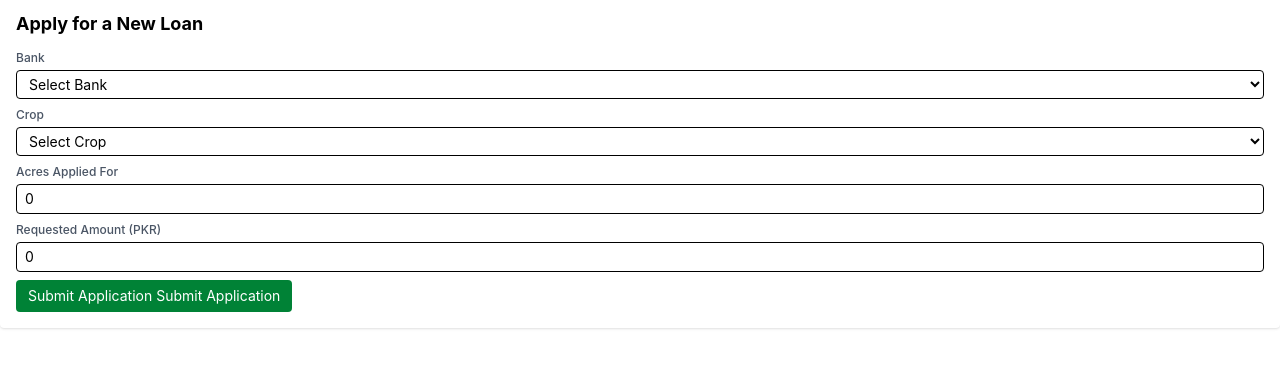
ApplyLoanForm.vue › FIXED: a generic per-field DRF validation error now surfaces instead of falling through to a useless generic message
This screenshot has width=1280, height=374.
Select "NRSP Bank" in the 1st dropdown at (640, 84), box [16,70,1264,99]
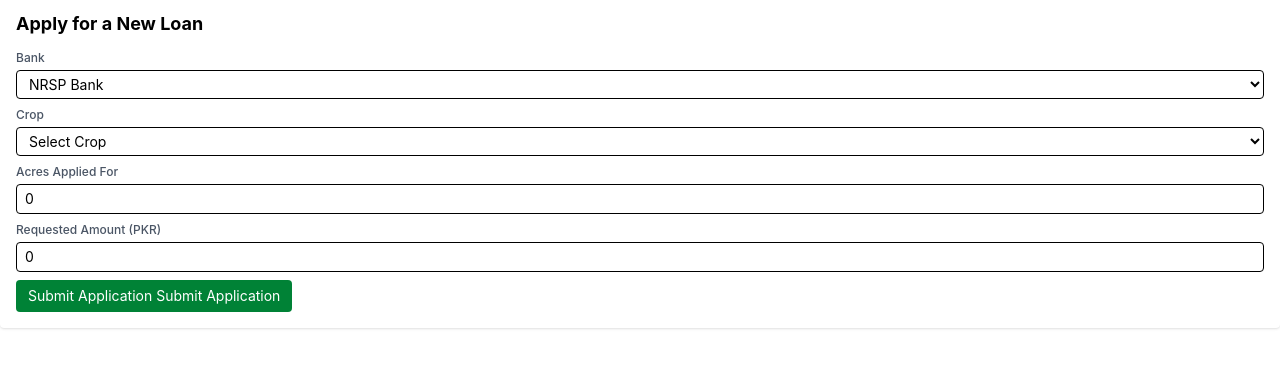
Select "Wheat (WHEAT)" in the 2nd dropdown at (640, 142), box [16,127,1264,156]
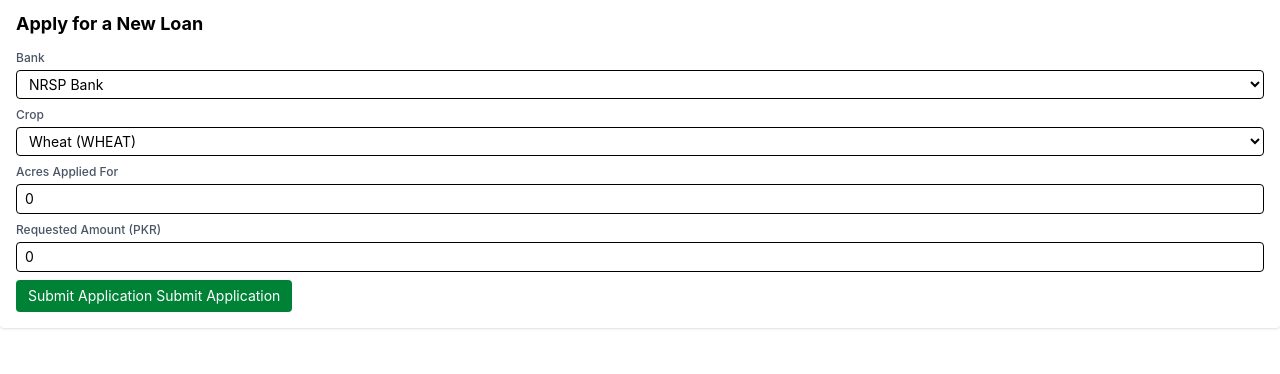
Replace the text in the 1st number field with "5" at (640, 199), box [16,184,1264,214]
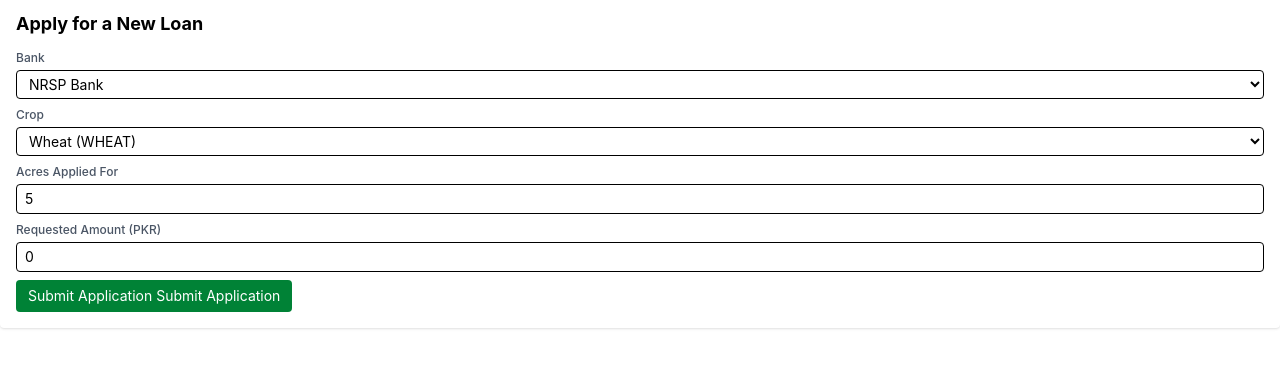
Replace the text in the 2nd number field with "50000" at (640, 257), box [16,242,1264,272]
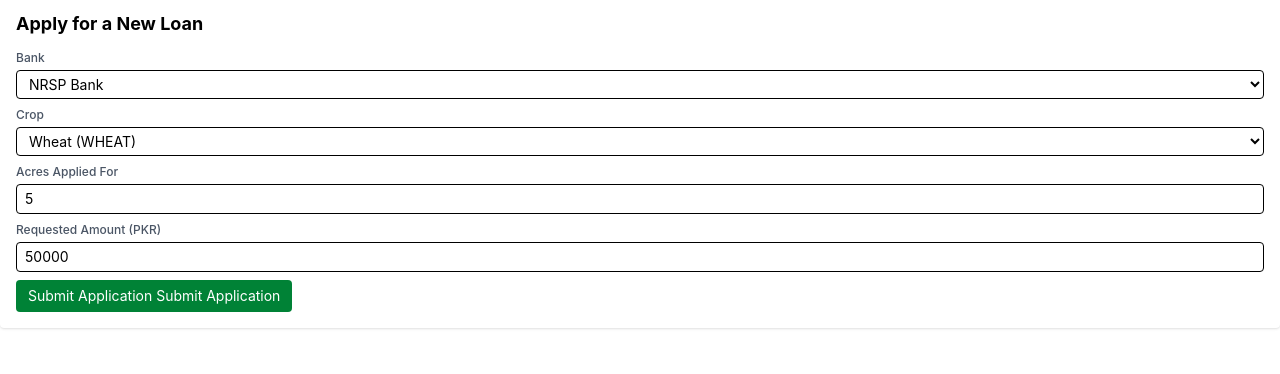
Click the button "Submit Application Submit Application" at (154, 296), box [16,280,292,312]
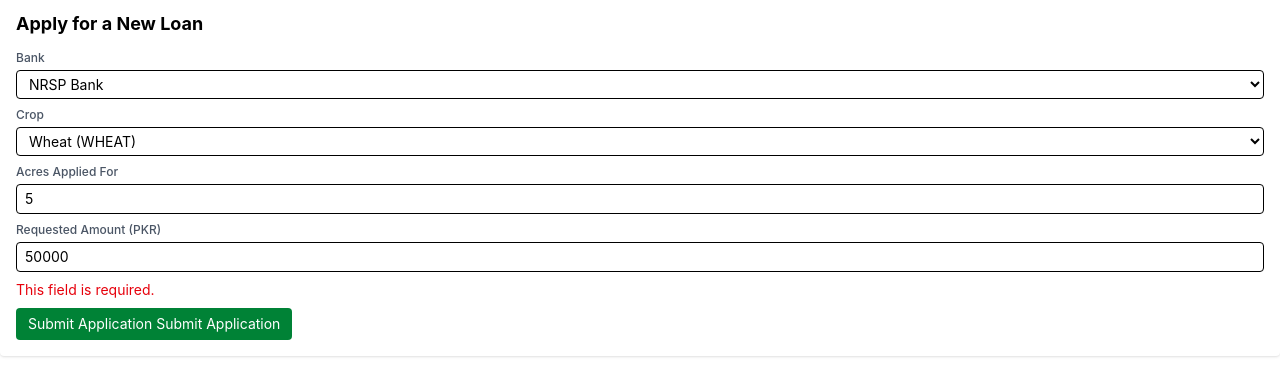
Result: the text "This field is required." is shown at [16,281,155,298]
